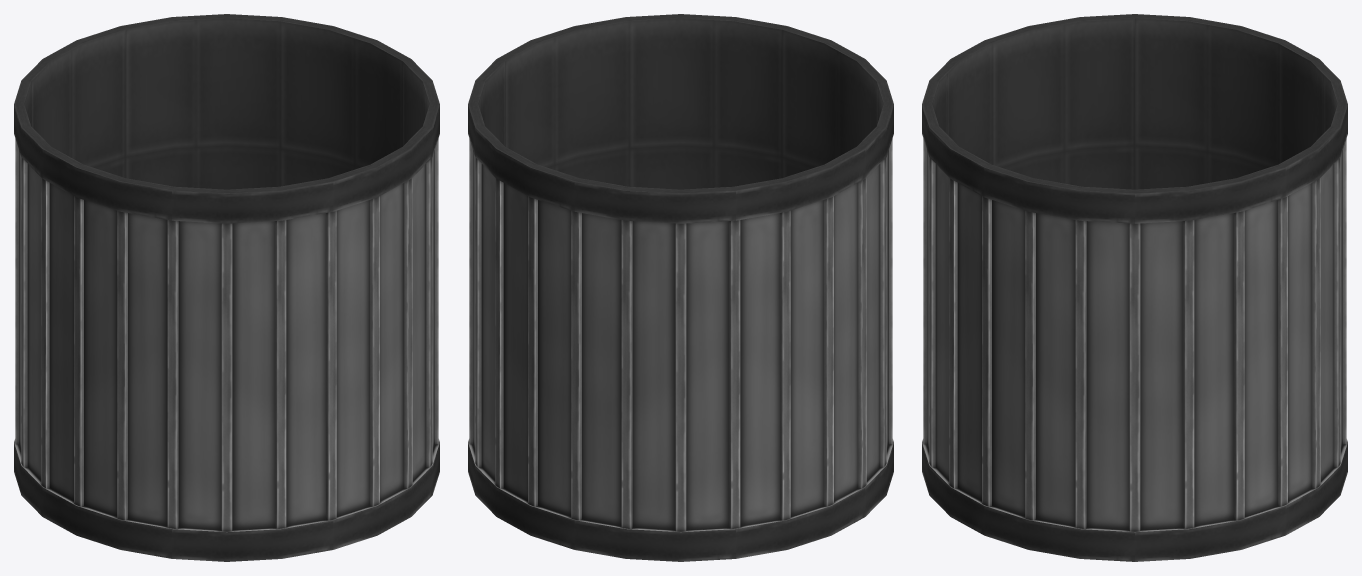
Rendered from Centaur_1875mInterstage.dae.
The picture shows the model from 3 angles, left to right: view 1: azimuth 30°, elevation 25°; view 2: azimuth 150°, elevation 25°; view 3: azimuth 270°, elevation 25°; orthographic projection.
Parts seen in each view (by area): view 1: Centaur_1875mInterstage, Rib16, Rib15, Rib17, Rib14, Rib18, Rib13, Rib19, Rib12, Rib20, Rib11, Rib21 (+2 smaller); view 2: Centaur_1875mInterstage, Rib24, Rib23, Rib25, Rib22, Rib26, Rib, Rib21, Rib4, Rib20, Rib5, Rib19 (+2 smaller); view 3: Centaur_1875mInterstage, Rib8, Rib7, Rib9, Rib6, Rib10, Rib5, Rib11, Rib4, Rib12, Rib, Rib13 (+2 smaller).
Part boxes in pixels (box(x1,y1,x2,y2)): Centaur_1875mInterstage: box(14, 14, 439, 561); Rib16: box(221, 223, 232, 531); Rib15: box(275, 220, 286, 528); Rib17: box(167, 220, 178, 528); Rib14: box(326, 211, 336, 520); Rib18: box(117, 211, 127, 520); Rib13: box(370, 196, 379, 506); Rib19: box(74, 196, 83, 506); Rib12: box(404, 178, 412, 488); Rib20: box(41, 178, 49, 488); Rib11: box(426, 157, 432, 467); Rib21: box(21, 157, 27, 467); Centaur_1875mInterstage: box(468, 14, 893, 561); Rib24: box(675, 223, 686, 531); Rib23: box(729, 220, 740, 528); Rib25: box(621, 220, 632, 528); Rib22: box(780, 211, 790, 520); Rib26: box(571, 211, 581, 520); Rib: box(528, 196, 537, 506); Rib21: box(824, 196, 833, 506); Rib4: box(495, 178, 503, 488); Rib20: box(858, 178, 866, 488); Rib5: box(475, 157, 481, 467); Rib19: box(880, 157, 886, 467); Centaur_1875mInterstage: box(922, 14, 1347, 561); Rib8: box(1129, 223, 1140, 531); Rib7: box(1183, 220, 1194, 528); Rib9: box(1075, 220, 1086, 528); Rib6: box(1234, 211, 1244, 520); Rib10: box(1025, 211, 1035, 520); Rib5: box(1278, 196, 1287, 506); Rib11: box(982, 196, 991, 506); Rib4: box(1312, 178, 1320, 488); Rib12: box(949, 178, 957, 488); Rib: box(1334, 157, 1340, 467); Rib13: box(929, 157, 935, 467).
Bounding box in the file's own units: 1.91 × 1.82 × 1.91.
